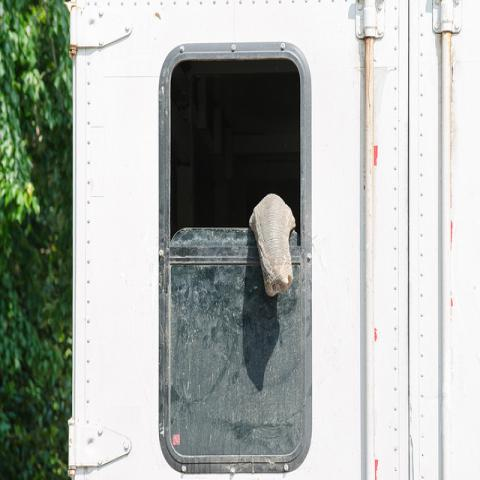truck: (68, 0, 480, 473)
